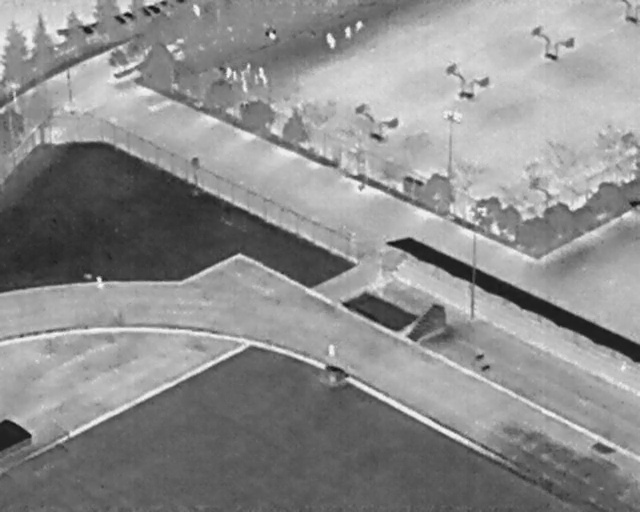Car: (75, 20, 96, 39), (111, 12, 129, 29), (86, 16, 103, 32), (120, 7, 137, 23), (138, 4, 154, 20), (145, 1, 162, 15)
Person: (238, 70, 250, 96), (92, 274, 107, 293), (256, 64, 267, 80), (354, 19, 365, 34), (344, 25, 354, 41), (326, 343, 337, 357), (260, 76, 271, 90), (224, 66, 233, 82), (245, 61, 253, 76), (324, 33, 332, 44), (329, 39, 337, 50), (231, 68, 238, 80)
